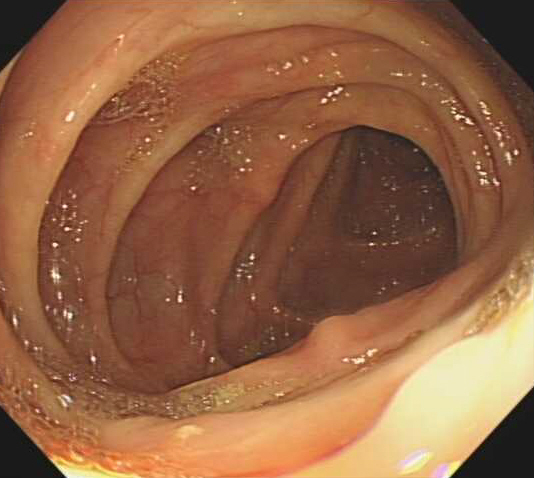adenoma: (300, 310, 363, 356)
